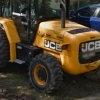Tractor: (15, 11, 99, 93)
